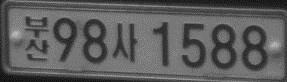1: (148, 21, 176, 67)
5: (181, 22, 207, 68)
8: (210, 22, 237, 69), (241, 24, 268, 71), (81, 18, 108, 64)
9: (51, 17, 78, 62)
부산_V: (24, 14, 49, 61)
사: (111, 22, 138, 63)
